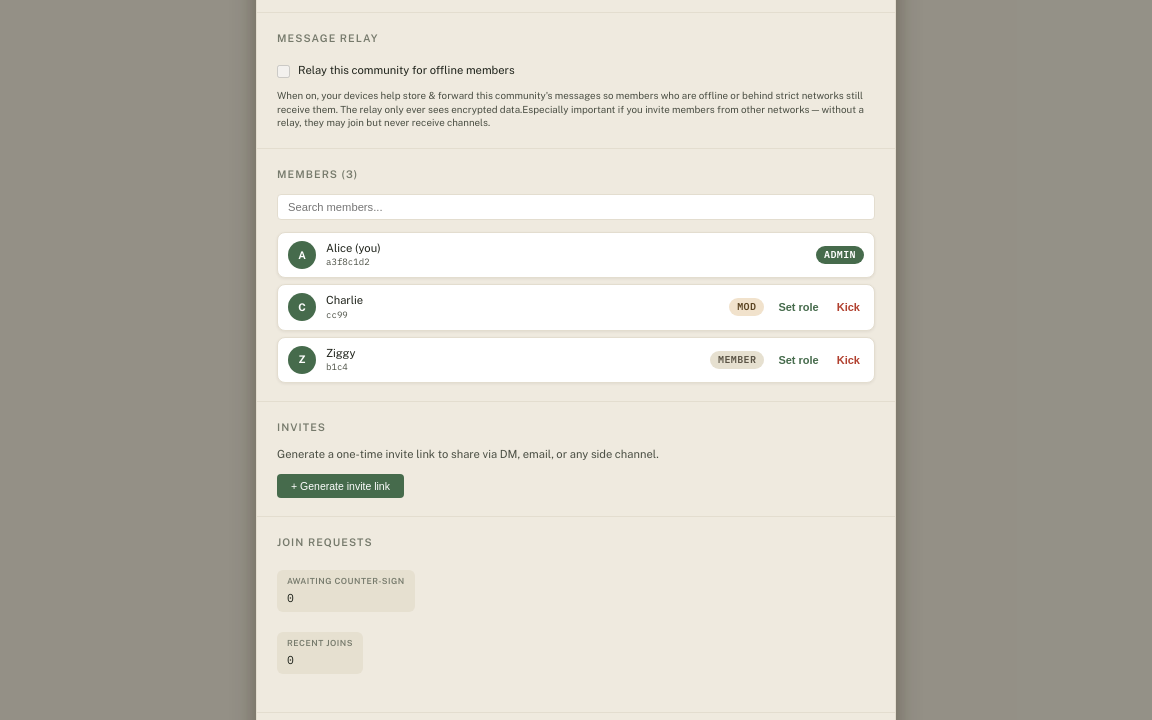
member-action confirmation dialogs resolve names through the ladder (ZEB-957) › kick dialog shows the friend nickname, not the roster displayName
(page scrolled)
Click the button with class "kick" in the row of "Ziggy" at point(848, 360), box [833,352,864,368]
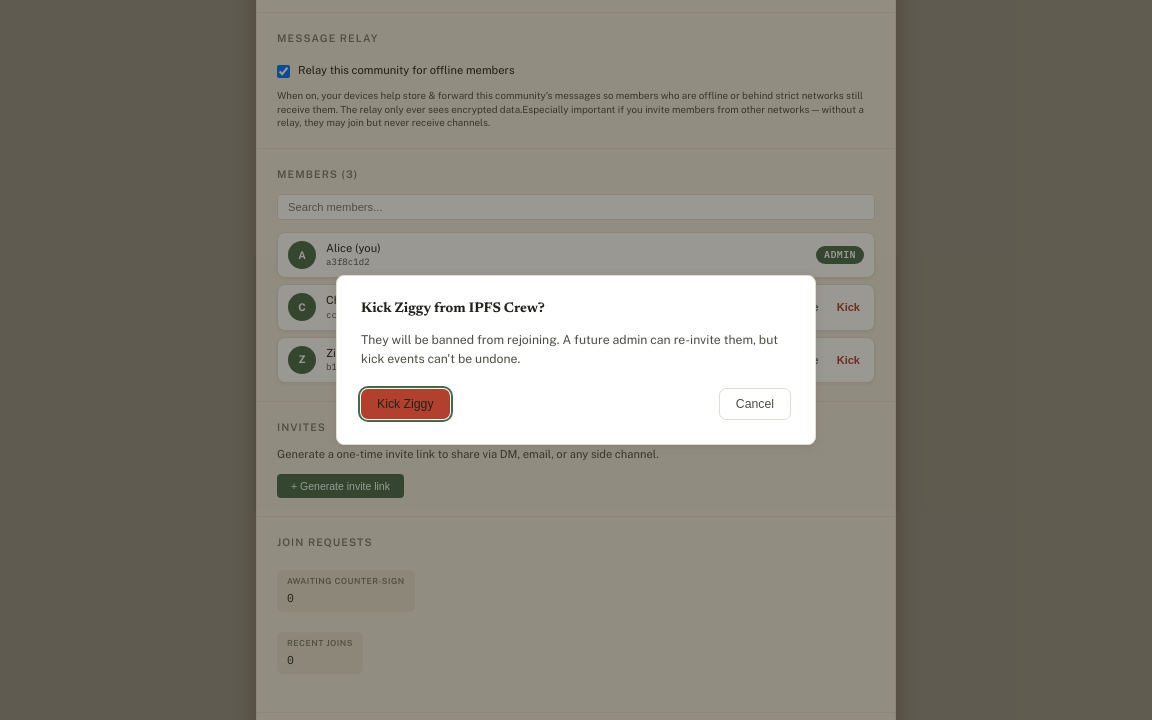
Expected: the button "Kick Ziggy" is shown, [361,389,450,419]
